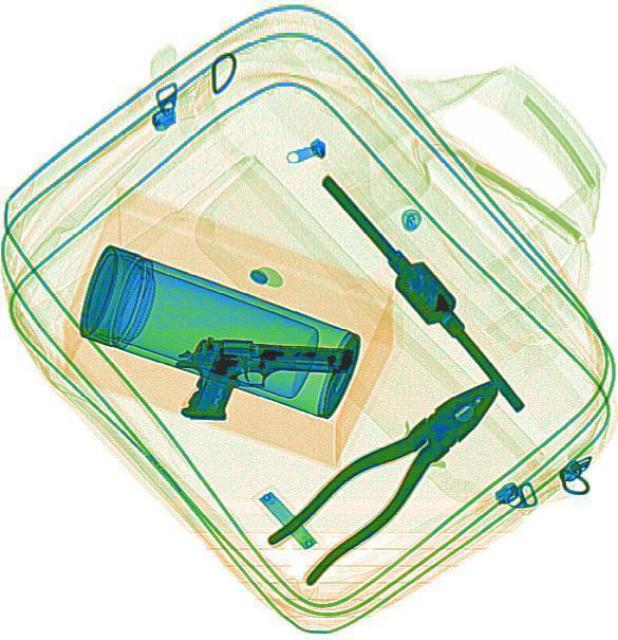Gun: (166, 334, 354, 428)
Pliers: (259, 354, 522, 586)
